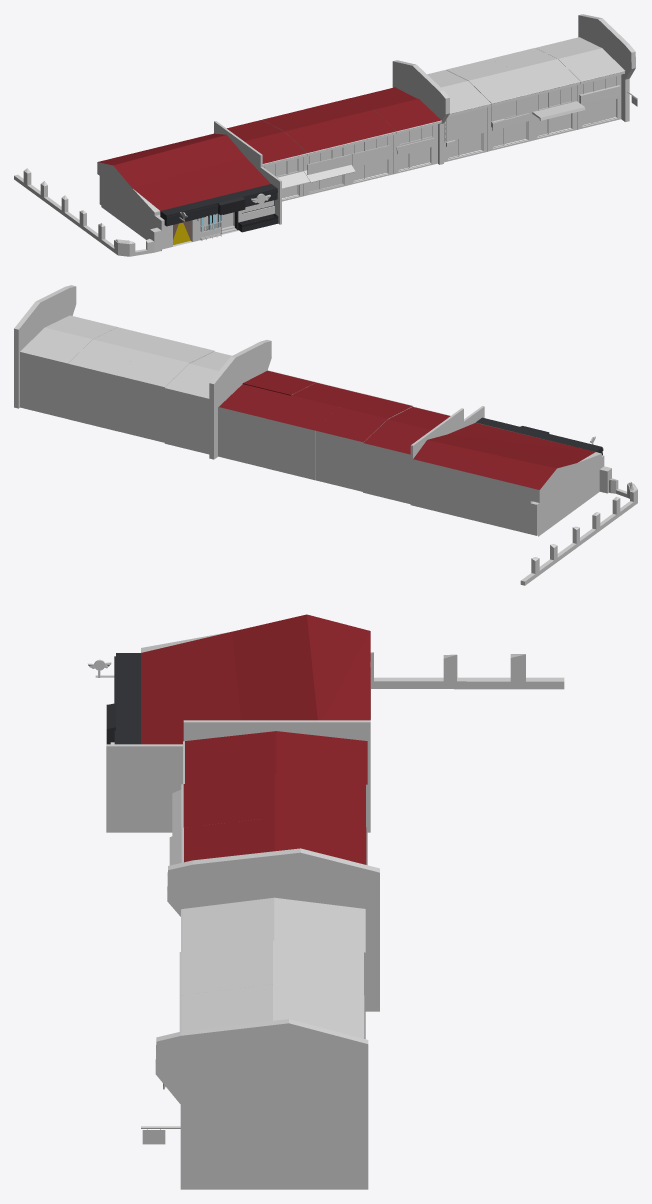
Rendered from BIGGS- ni renz.fbx.
The picture shows the model from 3 angles, top to bottom: view 1: azimuth 30°, elevation 25°; view 2: azimuth 150°, elevation 25°; view 3: azimuth 270°, elevation 25°; orthographic projection. The views are drawn at different scales.
Parts seen in each view (by area): view 1: Model, Group2, Group1, Group15, Group14; view 2: Model, Group2, Group1; view 3: Model, Group2, Group1.
Boxes of the visible parts, x1=… form: Model: x1=14, y1=87, x2=637, y2=256; Group2: x1=427, y1=14, x2=635, y2=162; Group1: x1=392, y1=60, x2=449, y2=164; Group15: x1=352, y1=145, x2=389, y2=167; Group14: x1=307, y1=154, x2=351, y2=174; Model: x1=218, y1=370, x2=637, y2=585; Group2: x1=14, y1=285, x2=231, y2=454; Group1: x1=209, y1=340, x2=271, y2=459; Model: x1=95, y1=614, x2=564, y2=1144; Group2: x1=155, y1=897, x2=368, y2=1189; Group1: x1=167, y1=848, x2=379, y2=1011.
Bounding box in the file's own units: 2855 × 448 × 1133.
